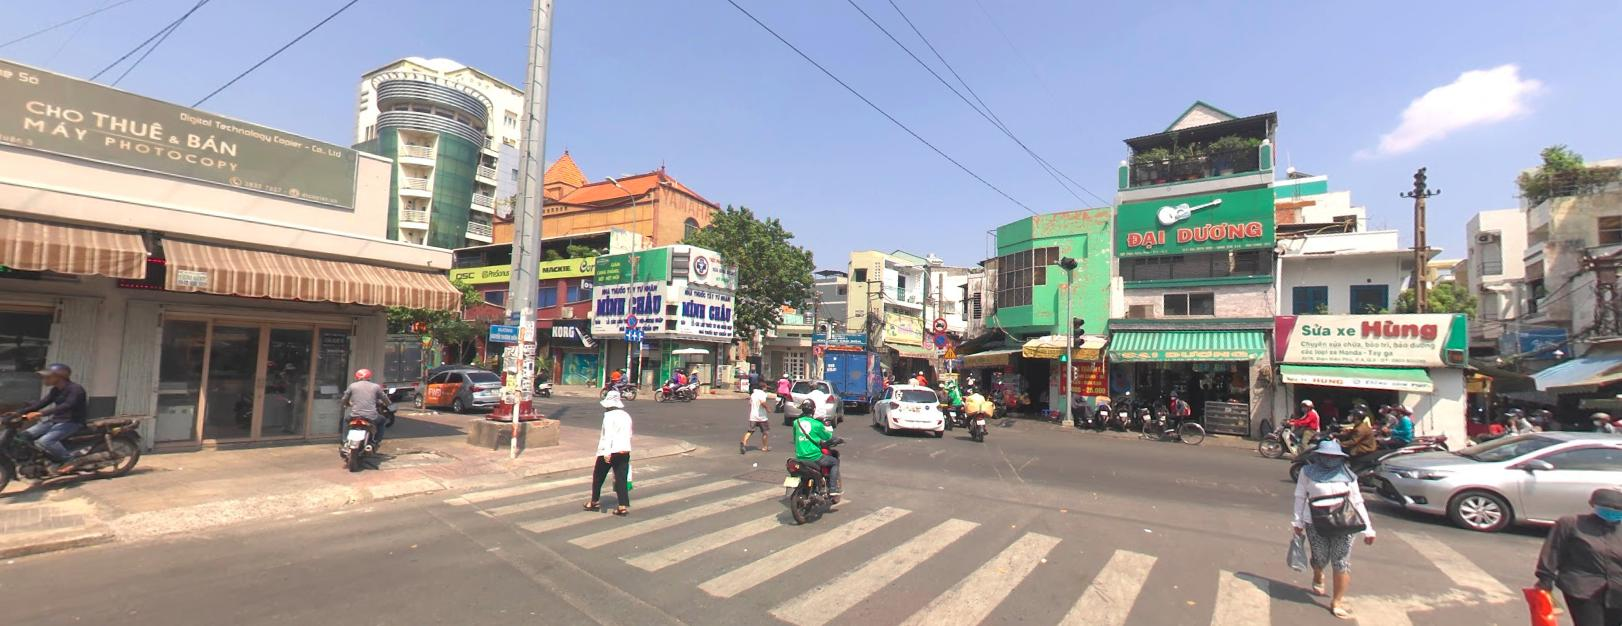Cam con lai: (932, 315, 947, 330)
Cam dung va do: (932, 331, 947, 346), (626, 312, 637, 325)
Nguy hiem: (942, 345, 957, 357)
